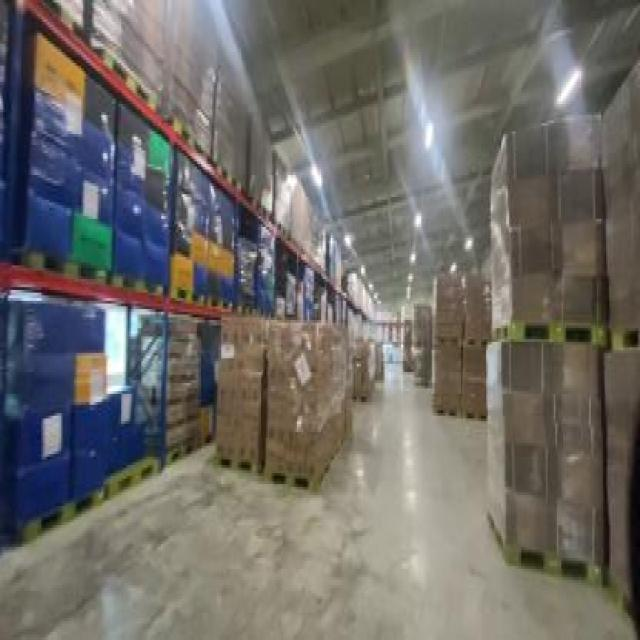box: (483, 63, 639, 615), (0, 35, 169, 290), (2, 295, 160, 528), (217, 317, 351, 484), (78, 0, 190, 115), (164, 148, 236, 309), (180, 22, 248, 186), (432, 271, 486, 421), (164, 309, 218, 457), (274, 153, 329, 265), (264, 246, 322, 326), (234, 208, 274, 312), (334, 334, 388, 396), (397, 306, 431, 386), (342, 260, 386, 317), (248, 104, 272, 208)
